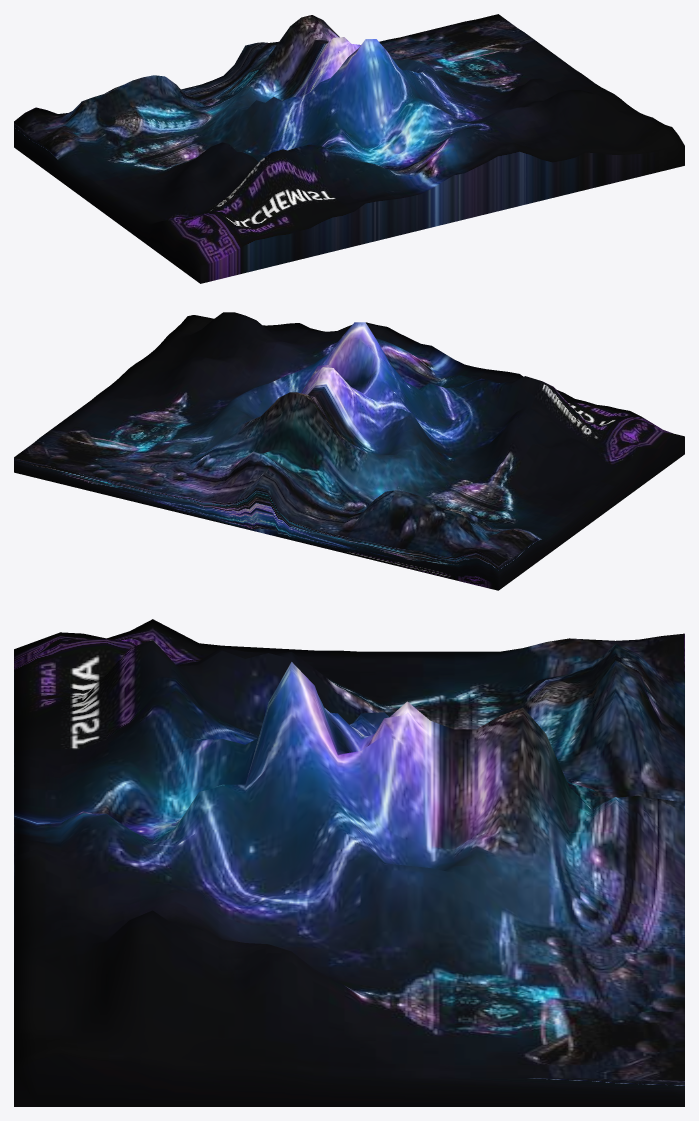
Rendered from CAREER_16_VFX_02_Pill_Concoction.glb.
3 views of the same model, one above another, from view 1: azimuth 30°, elevation 25°; view 2: azimuth 150°, elevation 25°; view 3: azimuth 270°, elevation 25° (orthographic). The views are drawn at different scales.
Visible parts, largest first — view 1: CAREER_16_VFX_02_Pill_Concoction; view 2: CAREER_16_VFX_02_Pill_Concoction; view 3: CAREER_16_VFX_02_Pill_Concoction.
Part boxes in pixels (bbox=[...]): CAREER_16_VFX_02_Pill_Concoction: bbox=[14, 14, 684, 283]; CAREER_16_VFX_02_Pill_Concoction: bbox=[14, 312, 684, 590]; CAREER_16_VFX_02_Pill_Concoction: bbox=[14, 619, 684, 1106].
Bounding box in the file's own units: 2 × 0.51 × 1.33.
Materials: 1 (1 with a texture image).
